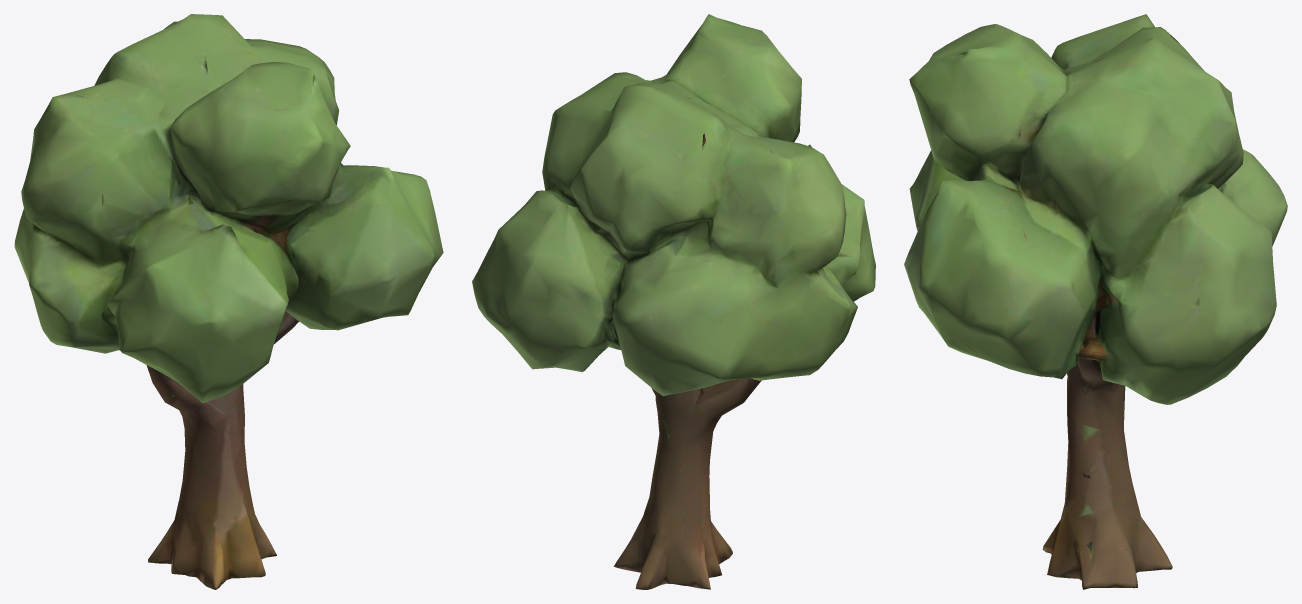
Rendered from oak.glb.
3 renders of one model, left to right at view 1: azimuth 30°, elevation 25°; view 2: azimuth 150°, elevation 25°; view 3: azimuth 270°, elevation 25°, orthographic. The views are drawn at different scales.
Bounding box in the file's own units: 1.41 × 2 × 1.31.
1 material, 1 textured.
